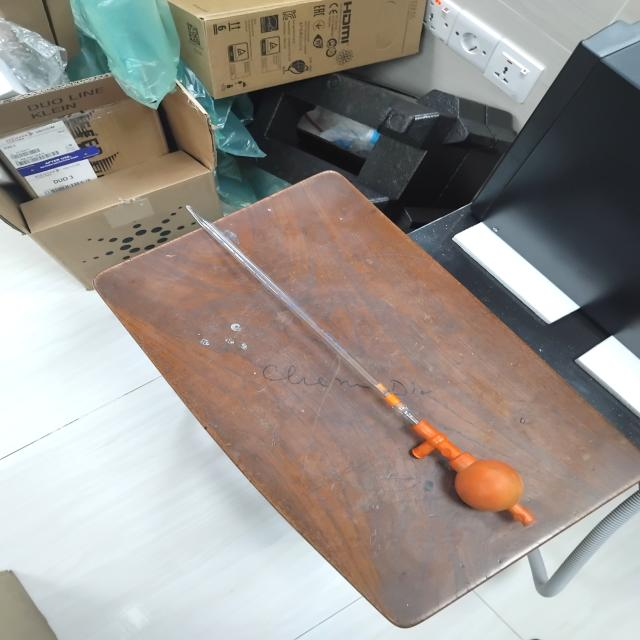Volumetric_Pipet: (139, 188, 546, 552)
